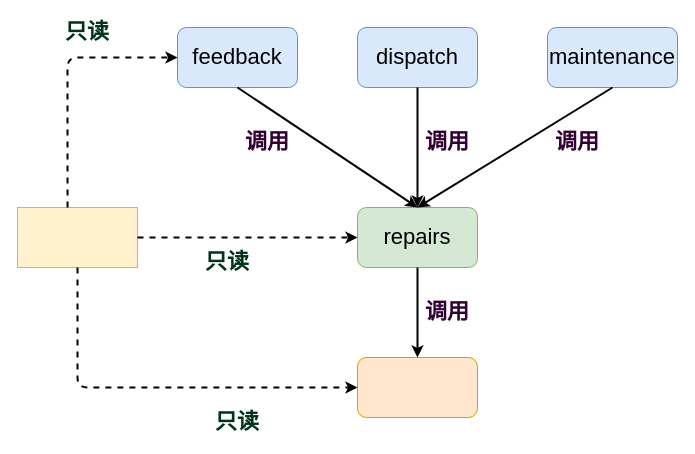
Some shapes in this 695 by 454 pixel diagram are drawn without their labels. Each missing label, with the centre of its shape:
accounts: [417,387]
dashboard: [77,237]
